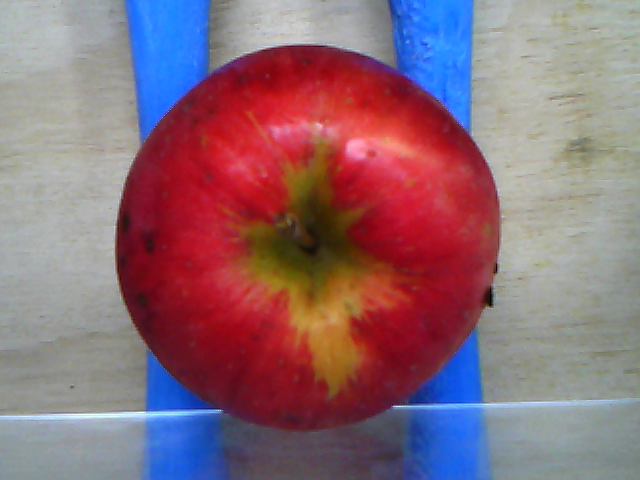stem: (275, 212, 319, 259)
